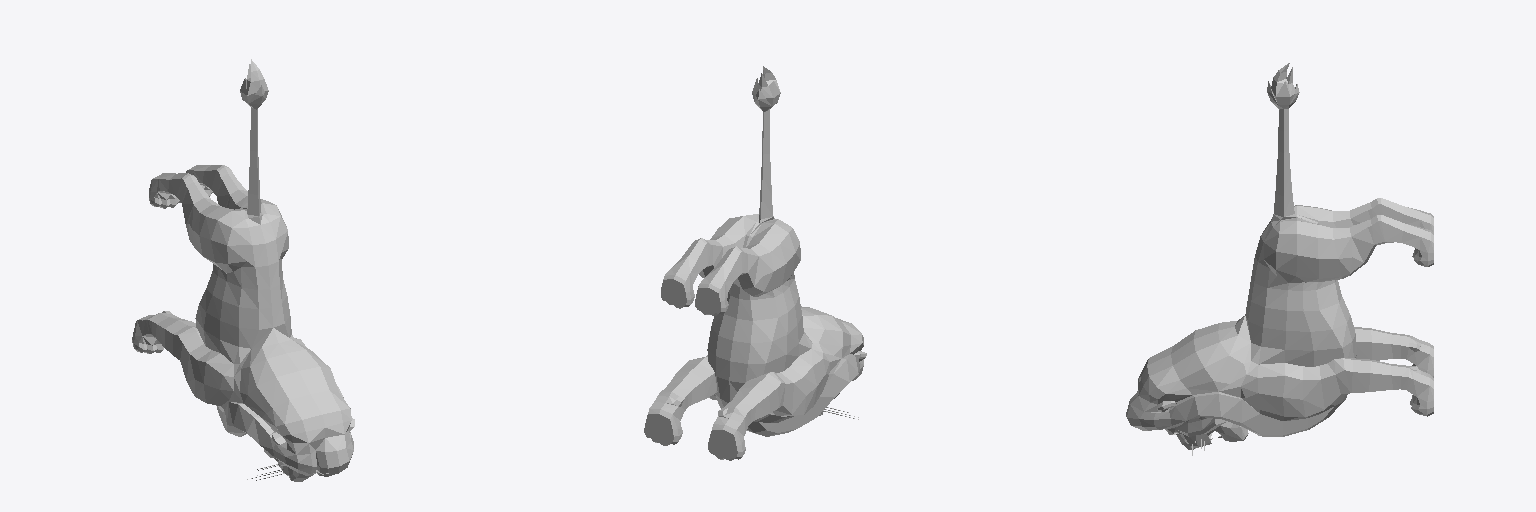
The model's file is simba.obj.
3 views of the same model, side by side, from view 1: azimuth 30°, elevation 25°; view 2: azimuth 150°, elevation 25°; view 3: azimuth 270°, elevation 25° (orthographic).
Visible parts, largest first — view 1: objsimba02; view 2: objsimba02; view 3: objsimba02.
Part boxes in pixels (bbox=[...]): objsimba02: bbox=[132, 59, 354, 481]; objsimba02: bbox=[644, 66, 866, 460]; objsimba02: bbox=[1126, 63, 1433, 455].
Size of the model in its own units: 87.94 by 303 by 218.